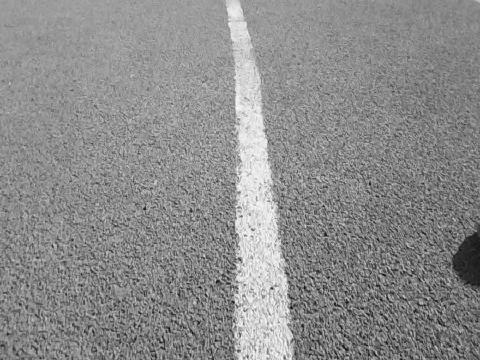Lines: (223, 0, 295, 360)
